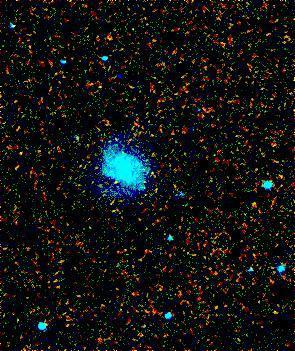star: (101, 165, 131, 195)
